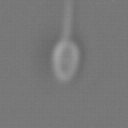normal: (56, 1, 88, 38)
